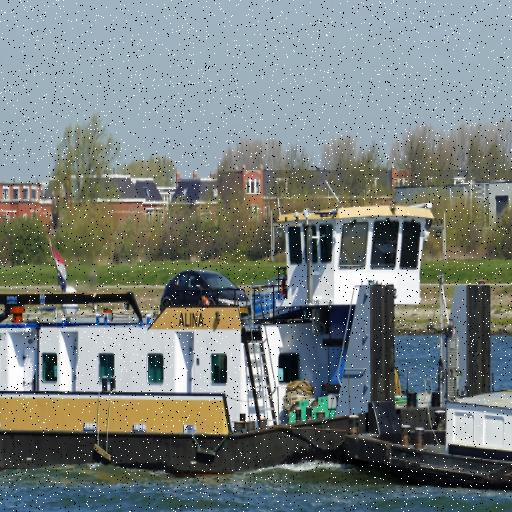tugboat: (1, 193, 502, 485)
